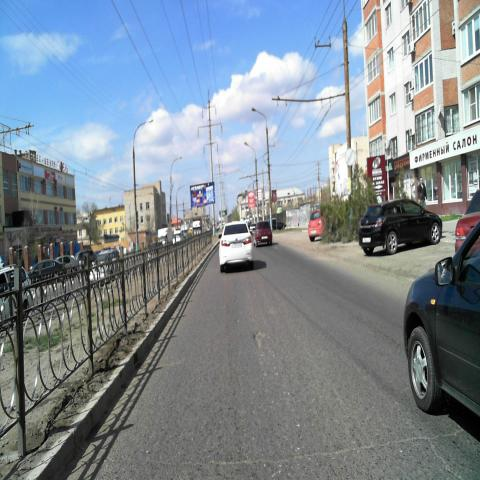3_31: (344, 147, 356, 168)
